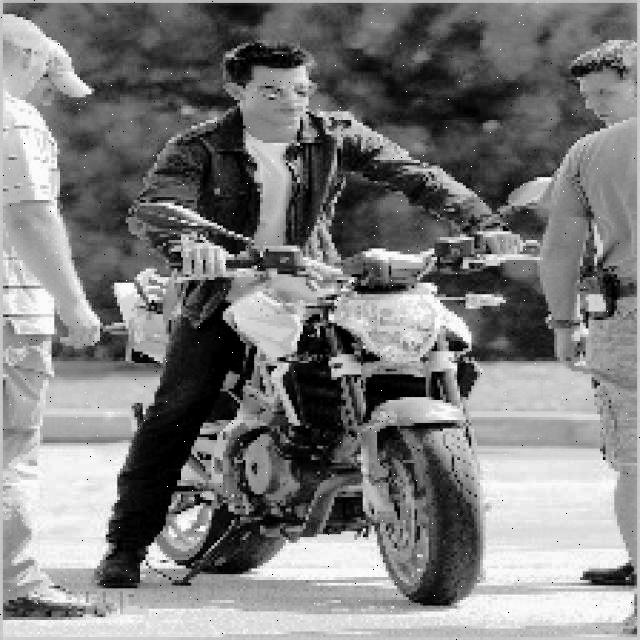Bike: (112, 239, 512, 614)
